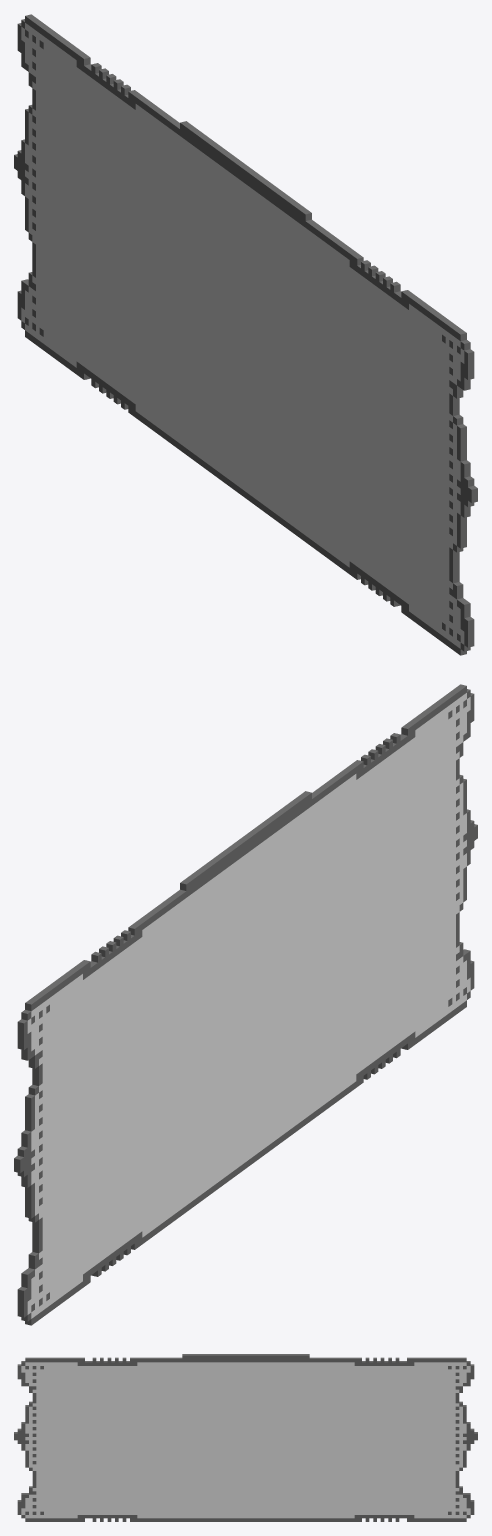
The model's file is 对话框大.FBX.
The picture shows the model from 3 angles, top to bottom: view 1: azimuth 30°, elevation 25°; view 2: azimuth 150°, elevation 25°; view 3: azimuth 270°, elevation 25°; orthographic projection. The views are drawn at different scales.
Parts seen in each view (by area): view 1: 框大; view 2: 框大; view 3: 框大.
Part boxes in pixels (left/top/right/bottom): 框大: left=14, top=14, right=477, bottom=655; 框大: left=14, top=684, right=477, bottom=1325; 框大: left=14, top=1354, right=477, bottom=1521.
Bounding box in the file's own units: 1 × 49 × 124.
